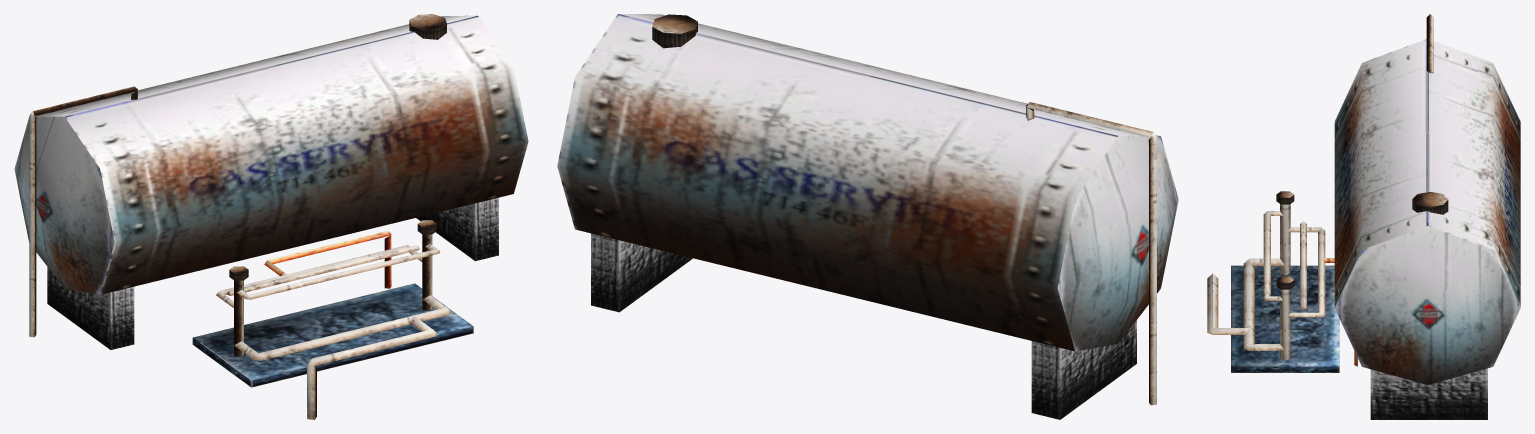
Rendered from Environment - Base Building - Gas Storage Tank 01 - PMGsStgTk01.glb.
3 views of the same model, side by side, from view 1: azimuth 30°, elevation 25°; view 2: azimuth 150°, elevation 25°; view 3: azimuth 270°, elevation 25° (orthographic). The views are drawn at different scales.
Visible parts, largest first — view 1: PMGSSTGTK01; view 2: PMGSSTGTK01; view 3: PMGSSTGTK01.
Boxes of the visible parts, box(x1,y1,x2,y2) form: PMGSSTGTK01: box(14, 14, 528, 419); PMGSSTGTK01: box(557, 14, 1178, 419); PMGSSTGTK01: box(1207, 14, 1520, 419).
Size of the model in its own units: 46.77 by 24.77 by 29.16.
1 material, 1 textured.
